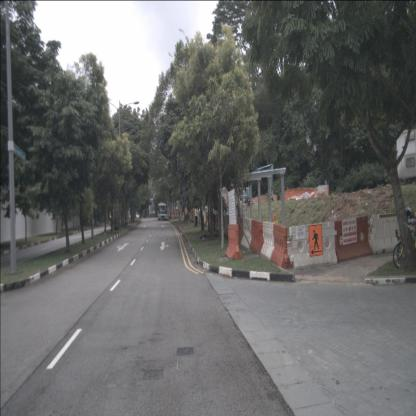human-pedestrian-adult: (212, 201, 218, 232), (194, 202, 199, 228)
movable_object-barrier: (289, 222, 338, 270), (335, 215, 372, 262), (369, 212, 408, 254), (271, 223, 292, 269), (226, 225, 243, 259), (260, 222, 275, 260), (250, 220, 264, 254), (241, 218, 252, 248), (234, 217, 244, 245), (223, 214, 230, 236), (212, 213, 219, 230), (204, 211, 209, 226), (198, 212, 203, 223), (202, 212, 206, 225), (196, 212, 199, 223), (191, 210, 194, 220)
vehicle-bicycle: (392, 220, 416, 272)
vehicle-bus-rigid: (157, 203, 167, 221)
vehicle-car: (134, 212, 140, 219)
vehicle-motorcycle: (396, 207, 416, 262)
